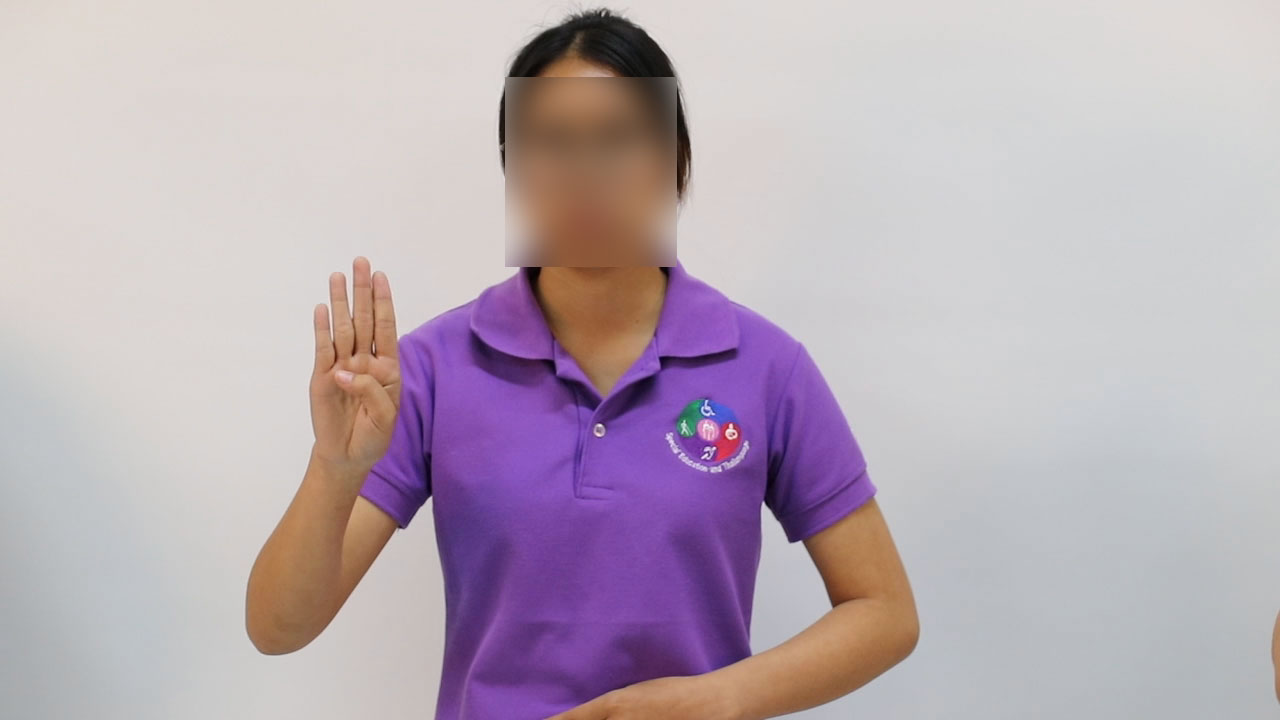bor: (290, 246, 417, 481)
